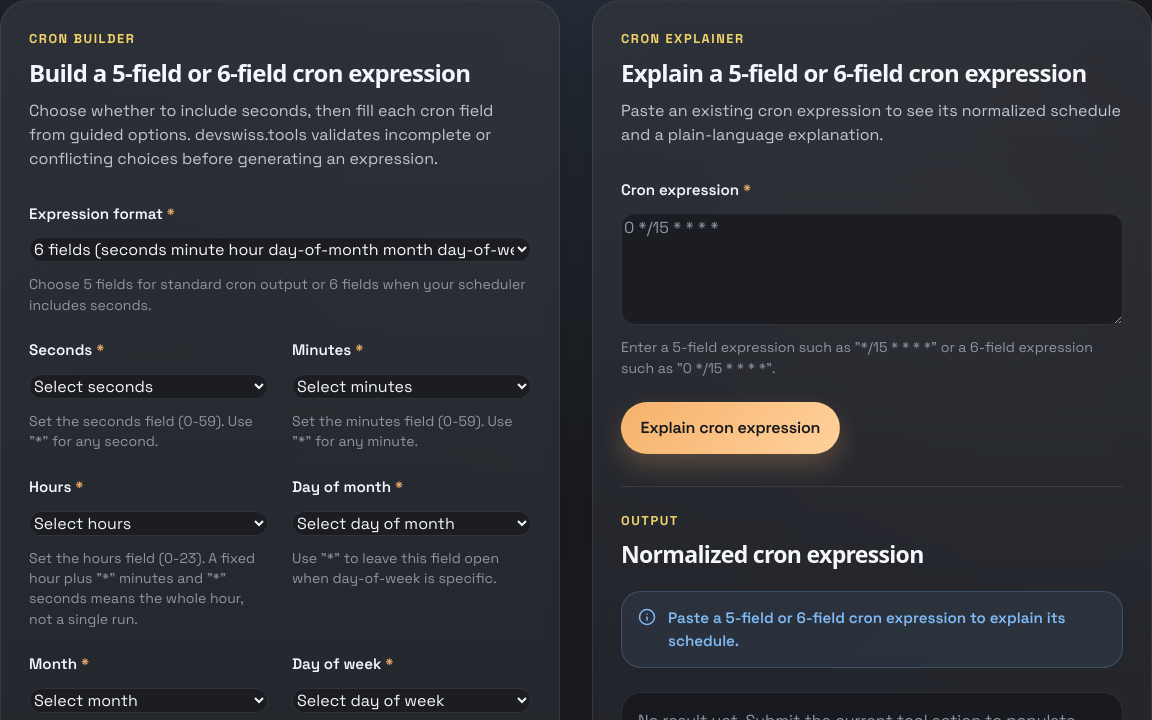
Test: Cron tool flow › shows actionable guidance for conflicting day selectors
Select "Second 0" in the dropdown labelled "Seconds *" at (148, 386), box [29,374,268,399]
Select "Minute 0" in the dropdown labelled "Minutes *" at (412, 386), box [292,374,531,399]
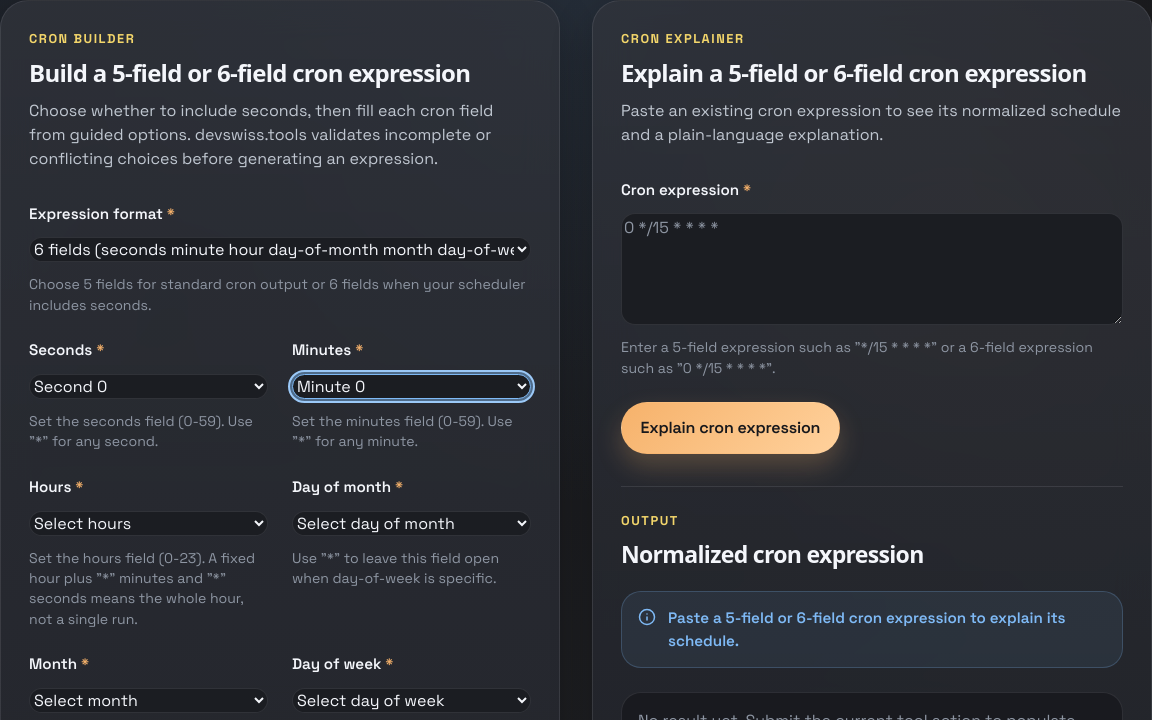
Select "09:00 hour" in the dropdown labelled "Hours *" at (148, 523), box [29,511,268,536]
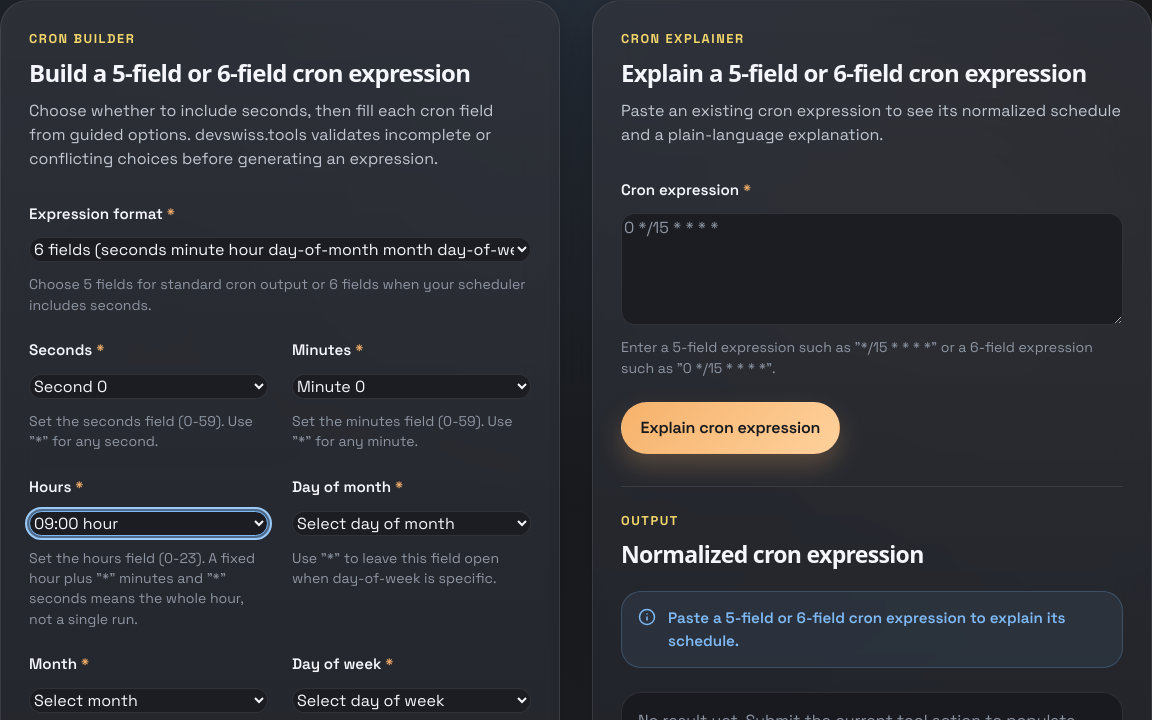
Select "Day 15" in the dropdown labelled "Day of month *" at (412, 523), box [292,511,531,536]
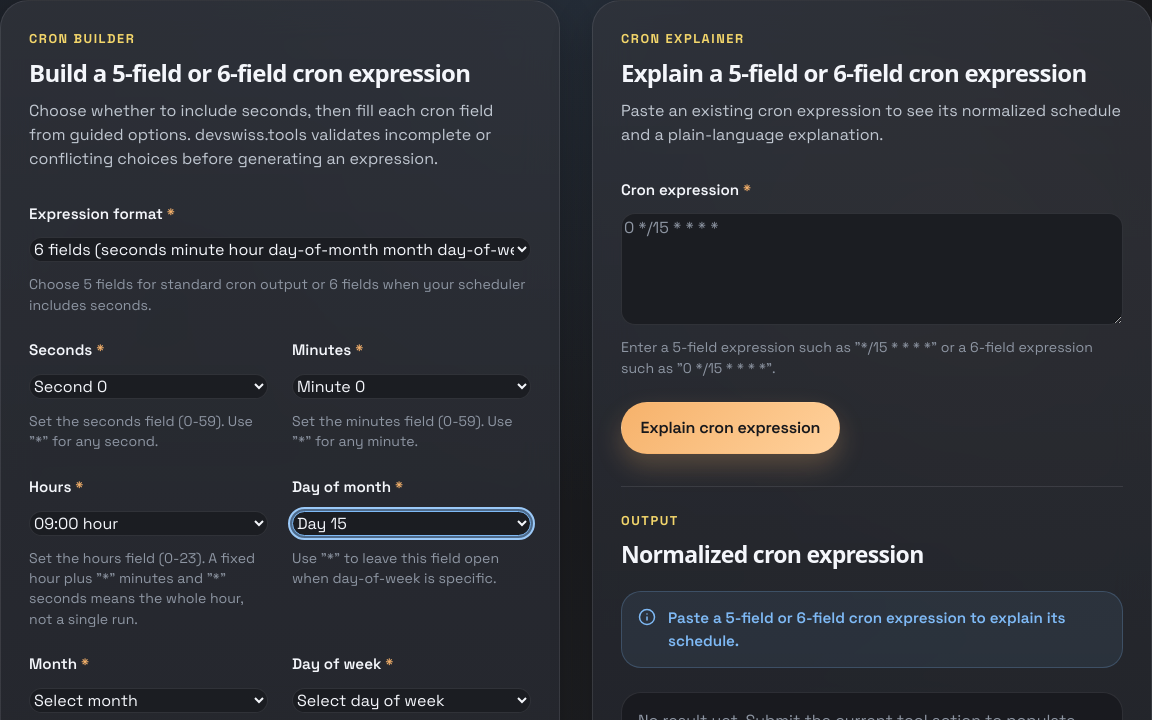
Select "Any month (*)" in the dropdown labelled "Month *" at (148, 700), box [29,688,268,713]
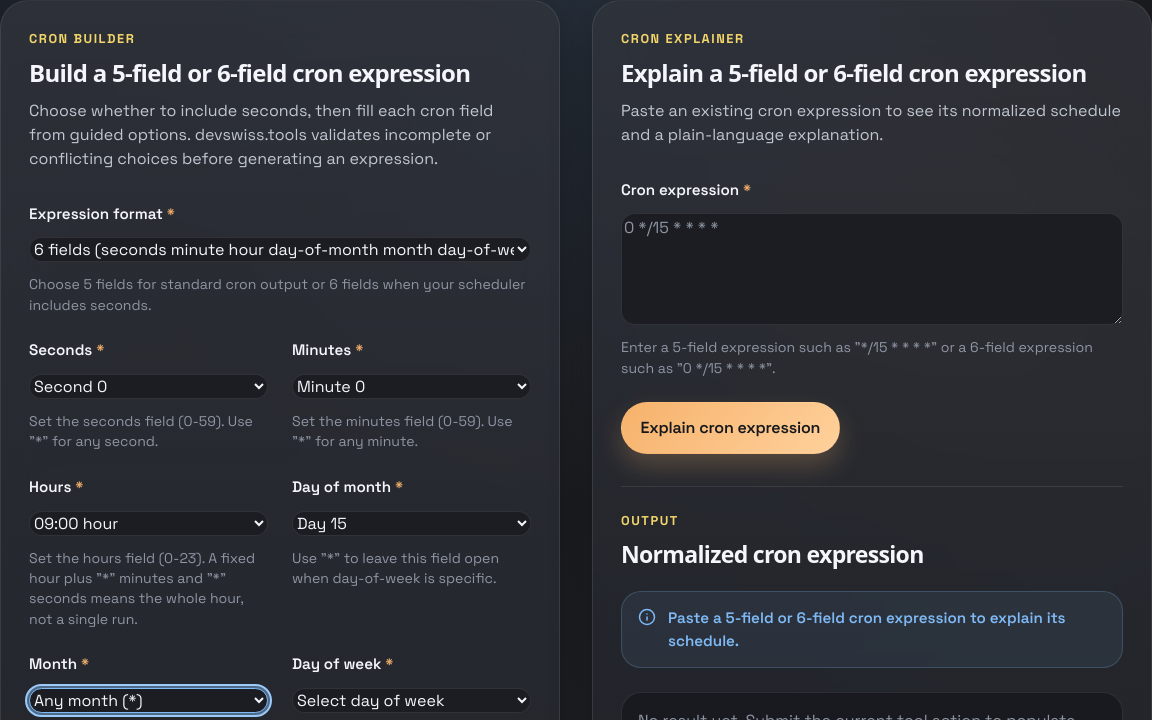
Select "Monday-Friday (1-5)" in the dropdown labelled "Day of week *" at (412, 700), box [292,688,531,713]
(page scrolled)
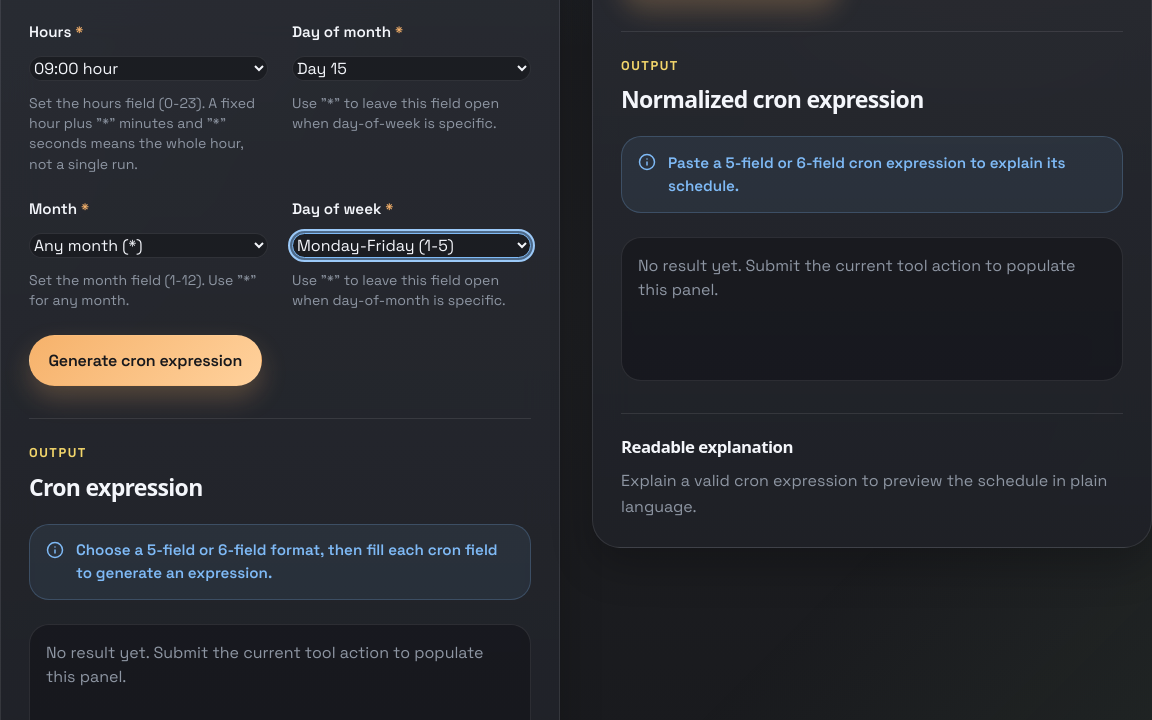
Click the button "Generate cron expression".
click(145, 361)  # box [29,335,262,386]
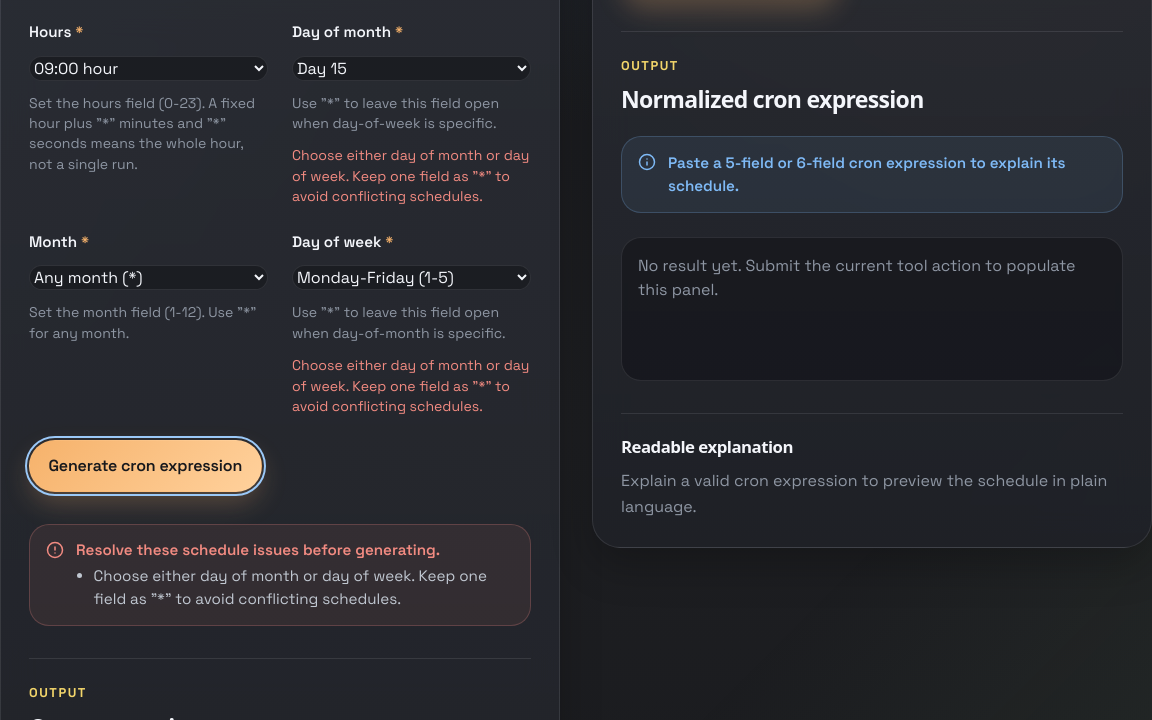
Result: the 1st text "Choose either day of month or day of week" is shown at [292,146,529,205]
